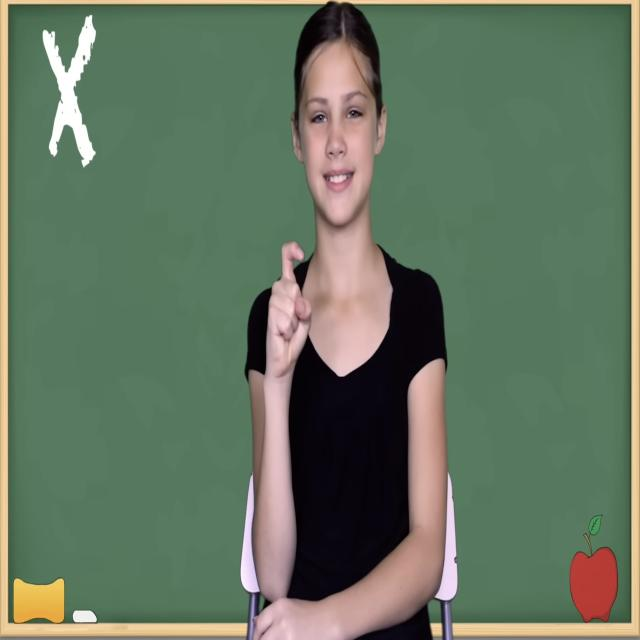X: (256, 226, 321, 423)
